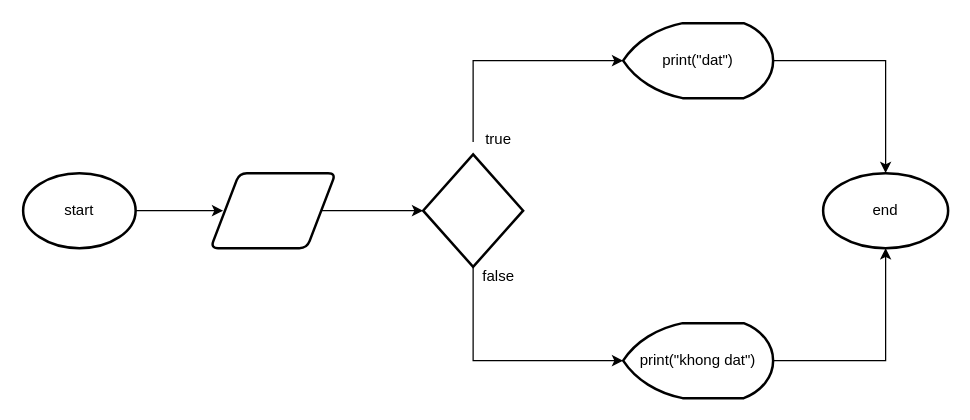
This 970x420 diagram has some shape labels left out. The centre of each missing label's shape, as x and y in pixels:
nhap score: point 272,210
score >= 5: point 472,210
